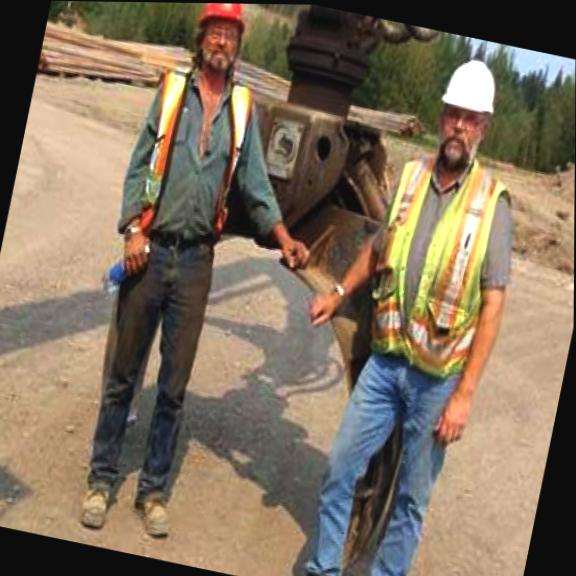safety_vest: (358, 158, 496, 383)
